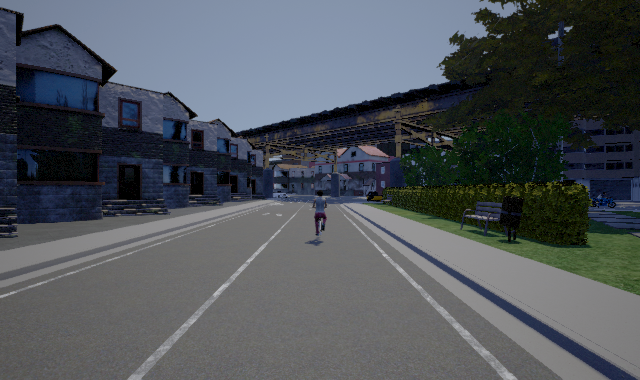bike: (308, 191, 331, 245)
